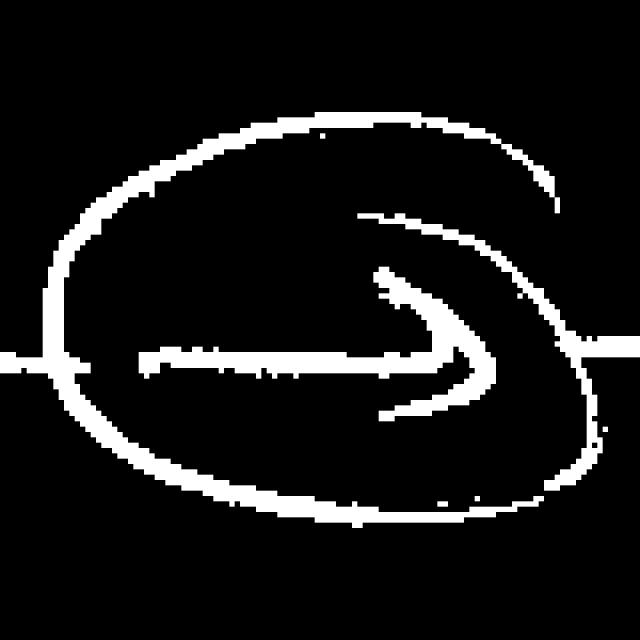current_source: (35, 99, 609, 540)
